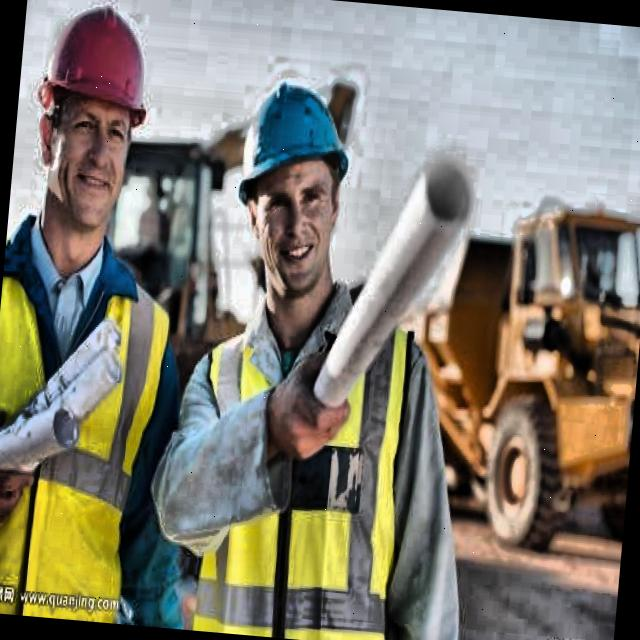helmet: (207, 55, 374, 332), (17, 0, 178, 266)
